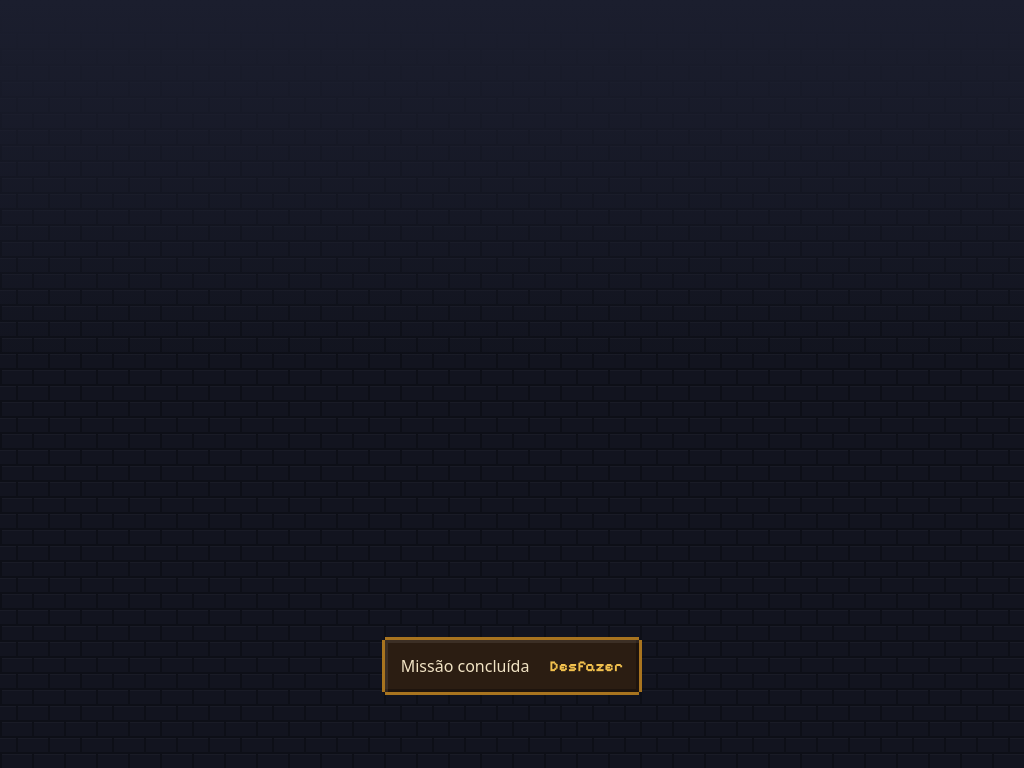
Scenario: Toast › shows a message with an action in a polite live region and hides after the timeout
Later steps or results of the test are not shown.
Expected: the message shows "Missão concluída", [401,655,529,677]
Click the button "Desfazer" at coordinates (586, 666), box [537,644,635,688]
Wait 4100 ms
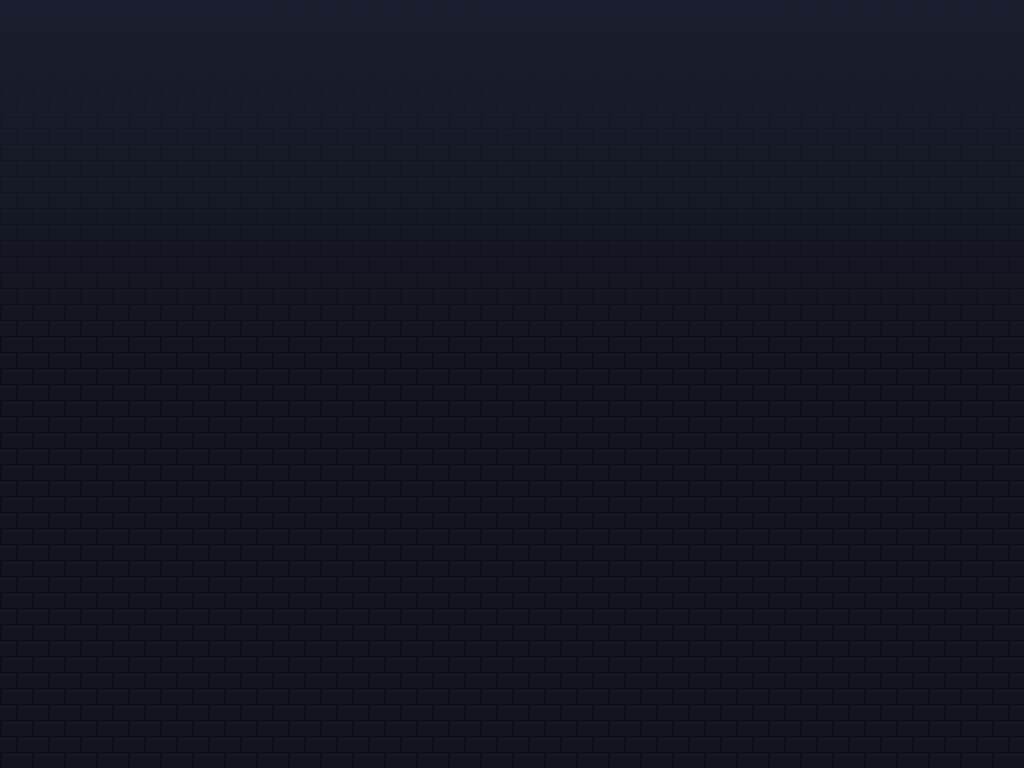
Now the text "Missão concluída" is gone
